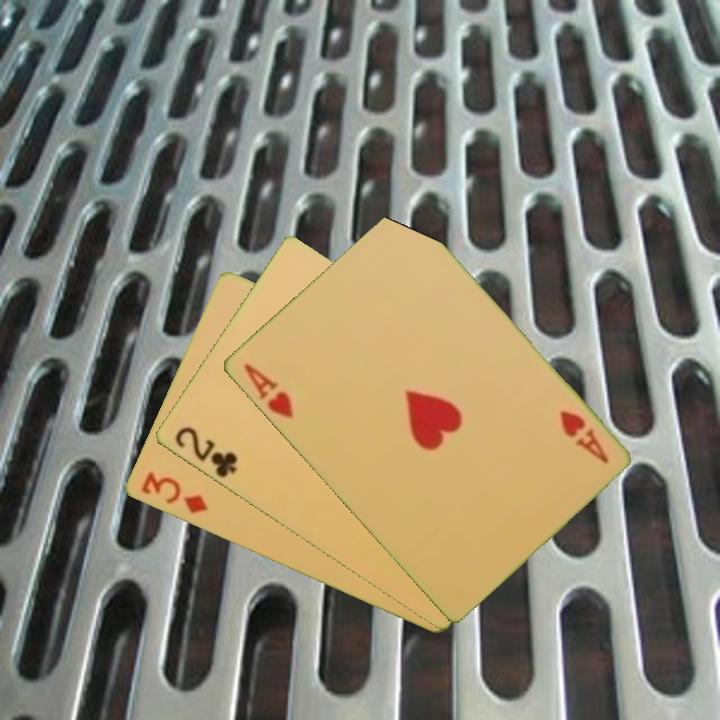2c: (170, 423, 240, 481)
3d: (137, 468, 211, 517)
Ah: (239, 360, 296, 422), (555, 406, 612, 467)
